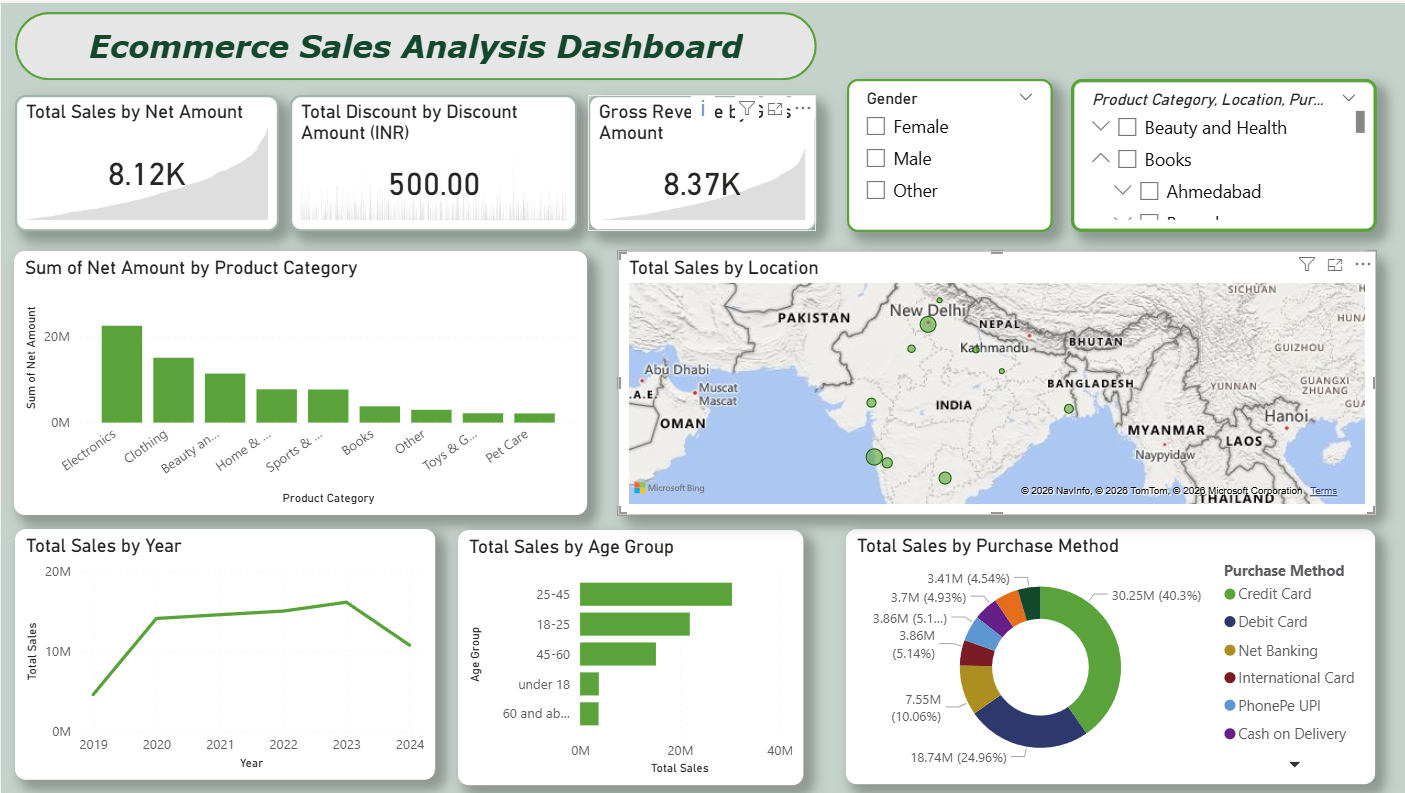

The page's visual inventory and layout, read from the dashboard file:
{"tool":"powerbi","page":{"name":"Page 1","canvas":[1280,720],"ordinal":0},"visuals":[{"type":"clusteredColumnChart","fields":{"Category":["E-Commerce Sales Analysis Dashboard.Product Category"],"Y":["Sum(E-Commerce Sales Analysis Dashboard.Net Amount)"]},"box":[12.2,225.6,521.1,240],"z":0},{"type":"donutChart","fields":{"Category":["E-Commerce Sales Analysis Dashboard.Purchase Method"],"Y":["E-Commerce Sales Analysis Dashboard.Total Sales"]},"box":[768.6,478.5,481.5,232.3],"z":1000},{"type":"shape","box":[12.4,8,728.9,62.1],"z":2000},{"type":"slicer","fields":{"Values":["E-Commerce Sales Analysis Dashboard.Product Category","E-Commerce Sales Analysis Dashboard.Location","E-Commerce Sales Analysis Dashboard.Purchase Method","E-Commerce Sales Analysis Dashboard.Purchase Date"]},"box":[972.5,68.8,277.5,138.8],"z":3000},{"type":"kpi","fields":{"Indicator":["E-Commerce Sales Analysis Dashboard.Total Sales"],"TrendLine":["E-Commerce Sales Analysis Dashboard.Net Amount"]},"box":[12.5,83.8,240,123.8],"z":4000},{"type":"kpi","fields":{"Indicator":["E-Commerce Sales Analysis Dashboard.Total Discount"],"TrendLine":["E-Commerce Sales Analysis Dashboard.Discount Amount (INR)"]},"box":[262.5,83.8,261.2,123.8],"z":5000},{"type":"kpi","fields":{"Indicator":["E-Commerce Sales Analysis Dashboard.Gross Revenue"],"TrendLine":["E-Commerce Sales Analysis Dashboard.Gross Amount"]},"box":[533.8,83.8,207.5,123.8],"z":6000},{"type":"slicer","fields":{"Values":["E-Commerce Sales Analysis Dashboard.Gender"]},"box":[768.9,68.9,186.7,138.9],"z":7000},{"type":"map","fields":{"Category":["E-Commerce Sales Analysis Dashboard.Location"],"Size":["E-Commerce Sales Analysis Dashboard.Total Sales"]},"box":[561.2,225.3,688.8,240.2],"z":8000},{"type":"clusteredBarChart","fields":{"Category":["E-Commerce Sales Analysis Dashboard.Age Group"],"Y":["E-Commerce Sales Analysis Dashboard.Total Sales"]},"box":[415.6,478.9,314.4,232.2],"z":9000},{"type":"lineChart","fields":{"Category":["E-Commerce Sales Analysis Dashboard.Purchase Date.Variation.Date Hierarchy.Year","E-Commerce Sales Analysis Dashboard.Purchase Date.Variation.Date Hierarchy.Quarter","E-Commerce Sales Analysis Dashboard.Purchase Date.Variation.Date Hierarchy.Month","E-Commerce Sales Analysis Dashboard.Purchase Date.Variation.Date Hierarchy.Day"],"Y":["E-Commerce Sales Analysis Dashboard.Total Sales"]},"box":[13,478.5,381.8,228.3],"z":10000}]}

Visuals, with their boxes in screenshot pixels (x1, y1, x2, y2), scaled from the page's 1280x720 canvas onto the 1405x793 screenshot:
clusteredColumnChart - E-Commerce Sales Analysis Dashboard.Product Category x Sum(E-Commerce Sales Analysis Dashboard.Net Amount): 13:248:585:513
donutChart - E-Commerce Sales Analysis Dashboard.Purchase Method x E-Commerce Sales Analysis Dashboard.Total Sales: 844:527:1372:783
shape: 14:9:814:77
slicer - E-Commerce Sales Analysis Dashboard.Product Category x E-Commerce Sales Analysis Dashboard.Location: 1067:76:1372:229
kpi - E-Commerce Sales Analysis Dashboard.Total Sales x E-Commerce Sales Analysis Dashboard.Net Amount: 14:92:277:229
kpi - E-Commerce Sales Analysis Dashboard.Total Discount x E-Commerce Sales Analysis Dashboard.Discount Amount (INR): 288:92:575:229
kpi - E-Commerce Sales Analysis Dashboard.Gross Revenue x E-Commerce Sales Analysis Dashboard.Gross Amount: 586:92:814:229
slicer - E-Commerce Sales Analysis Dashboard.Gender: 844:76:1049:229
map - E-Commerce Sales Analysis Dashboard.Location x E-Commerce Sales Analysis Dashboard.Total Sales: 616:248:1372:513
clusteredBarChart - E-Commerce Sales Analysis Dashboard.Age Group x E-Commerce Sales Analysis Dashboard.Total Sales: 456:527:801:783
lineChart - E-Commerce Sales Analysis Dashboard.Purchase Date.Variation.Date Hierarchy.Year x E-Commerce Sales Analysis Dashboard.Purchase Date.Variation.Date Hierarchy.Quarter: 14:527:433:778
